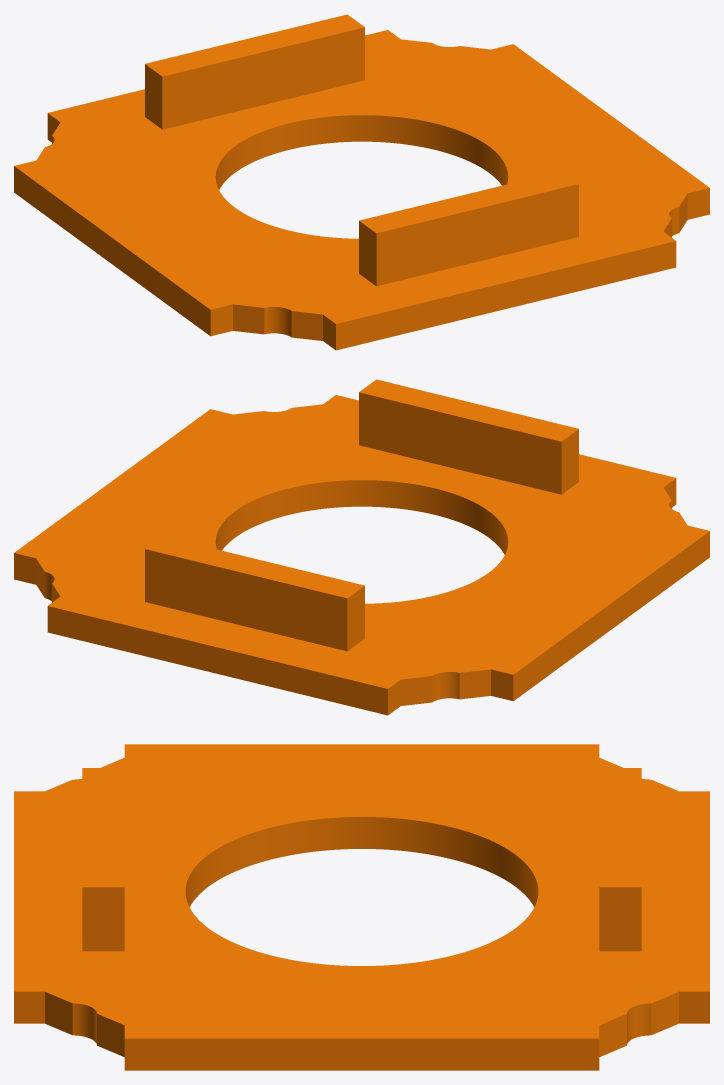
The model's file is V5_Sample Holder.obj.
The picture shows the model from 3 angles, top to bottom: view 1: azimuth 30°, elevation 25°; view 2: azimuth 150°, elevation 25°; view 3: azimuth 270°, elevation 25°; orthographic projection. The views are drawn at different scales.
Visible parts, largest first — view 1: Solid1:34; view 2: Solid1:34; view 3: Solid1:34.
Boxes of the visible parts, x1,y1,x2,y2 form: Solid1:34: (14,14,709,350); Solid1:34: (14,379,709,715); Solid1:34: (14,744,709,1070).
Bounding box in the file's own units: 49.3 × 7.5 × 49.3.
